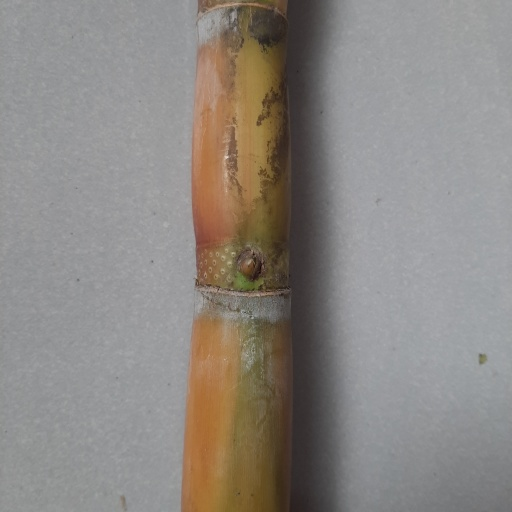Bud: (236, 249, 262, 280)
